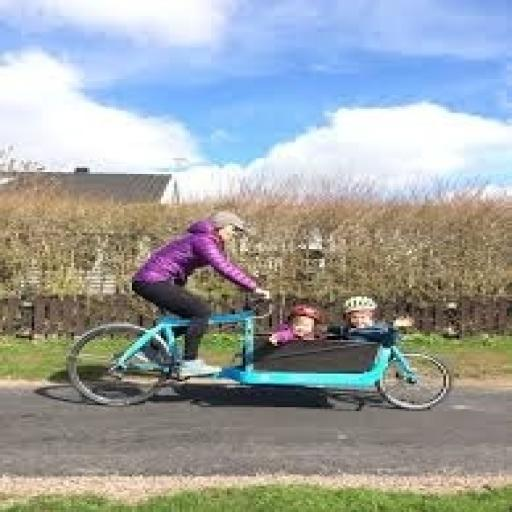cycling: (126, 208, 274, 382), (330, 293, 414, 346), (264, 300, 330, 350)
